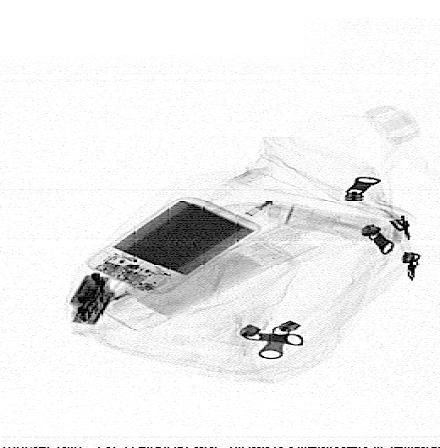Powerbank: (85, 195, 261, 295)
